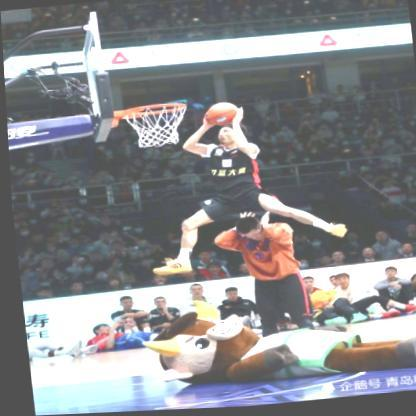basketball: (205, 103, 237, 129)
rim: (121, 103, 188, 149)
